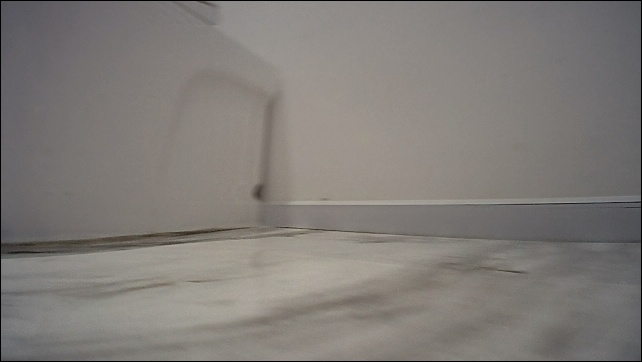toilet: (0, 3, 283, 248)
